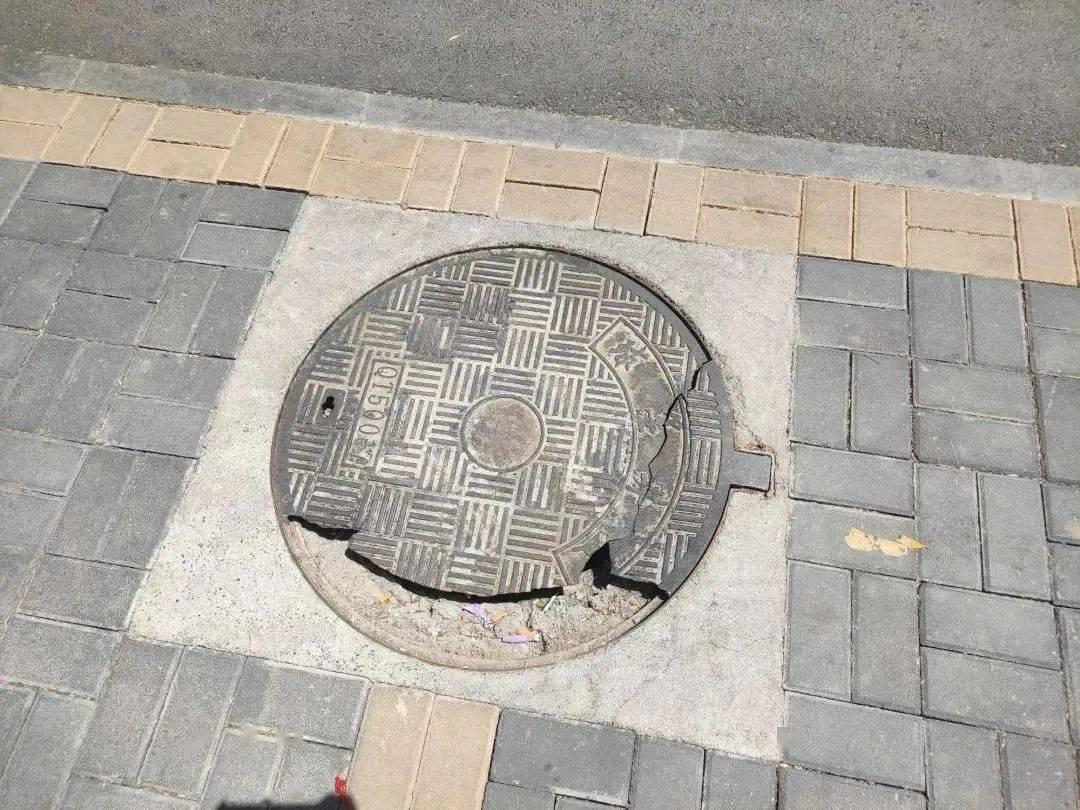wellcover: (229, 209, 801, 693)
